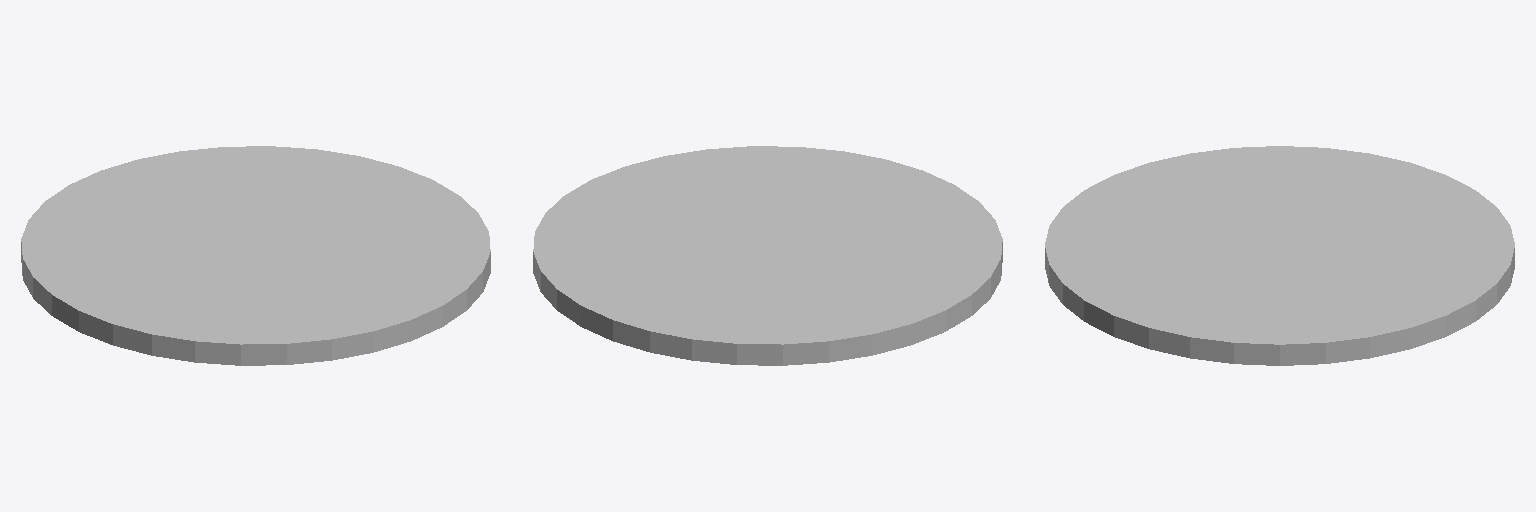
The model's file is UI_Buttons.obj.
3 renders of one model, left to right at view 1: azimuth 30°, elevation 25°; view 2: azimuth 150°, elevation 25°; view 3: azimuth 270°, elevation 25°, orthographic.
Visible parts, largest first — view 1: Cylinder; view 2: Cylinder; view 3: Cylinder.
Boxes of the visible parts, <box> form: Cylinder: <box>21,146,490,365</box>; Cylinder: <box>533,146,1002,365</box>; Cylinder: <box>1045,146,1514,365</box>.
Size of the model in its own units: 2 by 0.1 by 2.